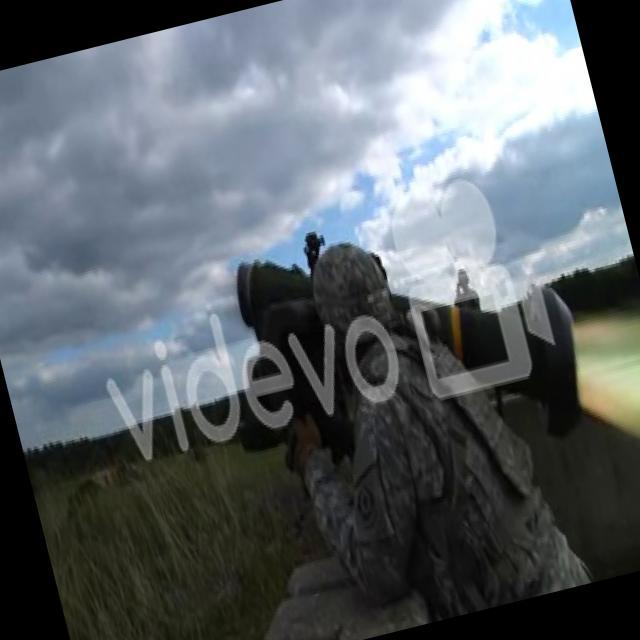rocket: (229, 188, 596, 491)
